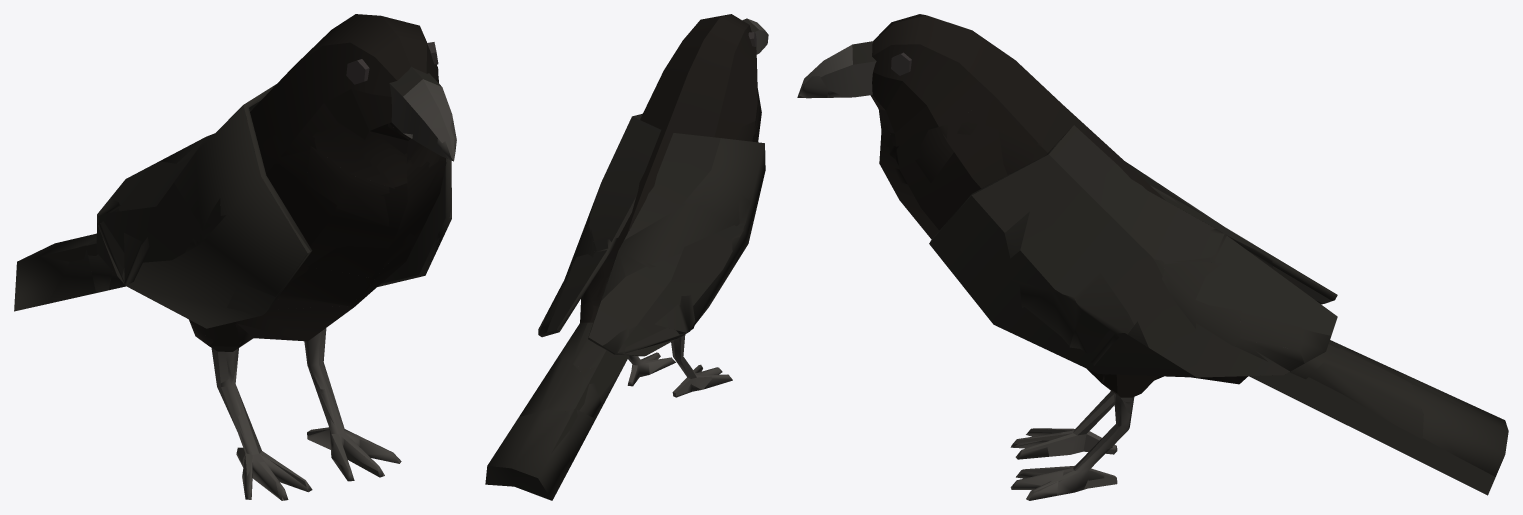
File: crow1.glb
3 renders of one model, left to right at view 1: azimuth 30°, elevation 25°; view 2: azimuth 150°, elevation 25°; view 3: azimuth 270°, elevation 25°, orthographic. The views are drawn at different scales.
Visible parts, largest first — view 1: Object, Geo_Raven_cell.011, Geo_Raven_cell.062, Geo_Raven_cell.021, Geo_Raven_cell.054, Geo_Raven_cell.001, Geo_Raven_cell.026, Geo_Raven_cell.044, Geo_Raven_cell.043, Geo_Raven_cell.070, Geo_Raven_cell.006, Geo_Raven_cell.067 (+9 smaller); view 2: Object, Geo_Raven_cell.011, Geo_Raven_cell.001, Geo_Raven_cell.066, Geo_Raven_cell.060, Geo_Raven_cell.065, Geo_Raven_cell.070, Geo_Raven_cell.078, Geo_Raven_cell.043, Geo_Raven_cell.032, Geo_Raven_cell.040, Geo_Raven_cell.035 (+1 smaller); view 3: Object, Geo_Raven_cell.001, Geo_Raven_cell.066, Geo_Raven_cell.032, Geo_Raven_cell.033, Geo_Raven_cell.009, Geo_Raven_cell.061, Geo_Raven_cell.008, Geo_Raven_cell.068, Geo_Raven_cell.018, Geo_Raven_cell.041, Geo_Raven_cell.050 (+1 smaller).
Part boxes in pixels (x1,y1,x2,y2): Object: (41,14,454,500); Geo_Raven_cell.011: (100,85,312,328); Geo_Raven_cell.062: (312,122,413,188); Geo_Raven_cell.021: (306,146,389,226); Geo_Raven_cell.054: (269,265,383,309); Geo_Raven_cell.001: (14,233,96,311); Geo_Raven_cell.026: (234,306,349,342); Geo_Raven_cell.044: (308,246,394,277); Geo_Raven_cell.043: (238,415,312,499); Geo_Raven_cell.070: (47,244,95,303); Geo_Raven_cell.006: (258,135,310,183); Geo_Raven_cell.067: (195,239,277,316); Object: (485,14,768,500); Geo_Raven_cell.011: (588,138,765,356); Geo_Raven_cell.001: (487,409,569,500); Geo_Raven_cell.066: (519,356,602,418); Geo_Raven_cell.060: (558,296,605,368); Geo_Raven_cell.065: (637,294,695,332); Geo_Raven_cell.070: (568,409,595,466); Geo_Raven_cell.078: (624,326,686,353); Geo_Raven_cell.043: (685,367,732,393); Geo_Raven_cell.032: (558,224,594,291); Geo_Raven_cell.040: (582,263,605,304); Geo_Raven_cell.035: (604,250,655,289); Object: (797,14,1495,500); Geo_Raven_cell.001: (1401,374,1508,476); Geo_Raven_cell.066: (1309,348,1423,439); Geo_Raven_cell.032: (1116,259,1241,347); Geo_Raven_cell.033: (894,119,1036,184); Geo_Raven_cell.009: (1008,278,1081,346); Geo_Raven_cell.061: (1074,257,1164,334); Geo_Raven_cell.008: (1240,312,1301,350); Geo_Raven_cell.068: (889,97,1028,183); Geo_Raven_cell.018: (1235,339,1304,375); Geo_Raven_cell.041: (1069,310,1109,356); Geo_Raven_cell.050: (1056,445,1108,495).
Bounding box in the file's own units: 19.32 × 43.51 × 61.33.
Materials: 1 (1 with a texture image).
